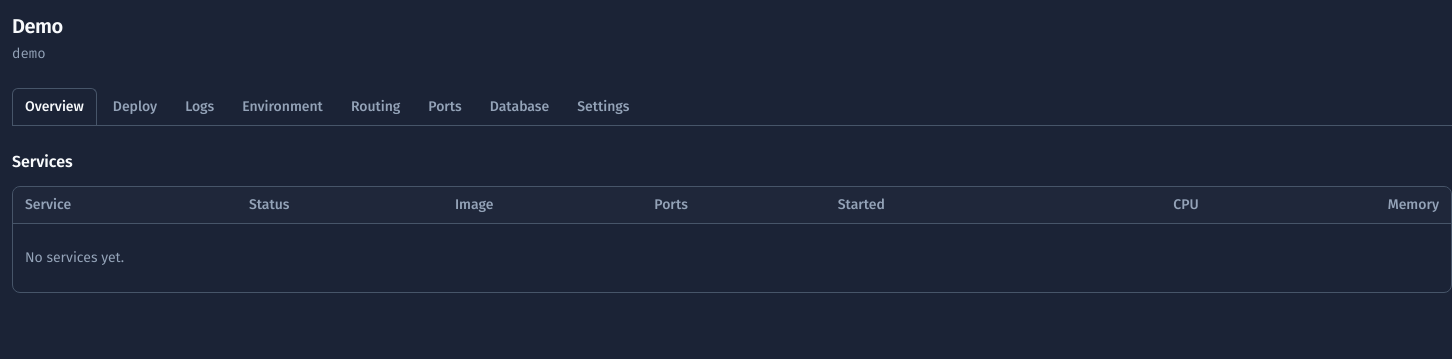
Test: ProjectPage database rotate › shows the database size
Expected: the heading "Demo" is shown, x1=12 y1=14 x2=63 y2=38
What coordinates should you click on to do the following:
click the tab "Database"
I would click on:
 (520, 106)
Its box is x1=478 y1=88 x2=561 y2=125.
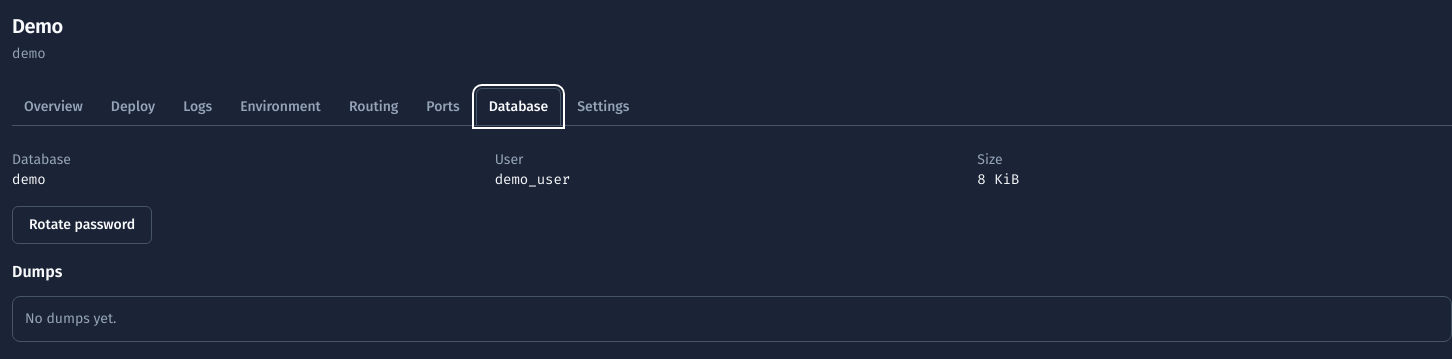
Now the text "8 KiB" is shown, box x1=977 y1=170 x2=1019 y2=189
